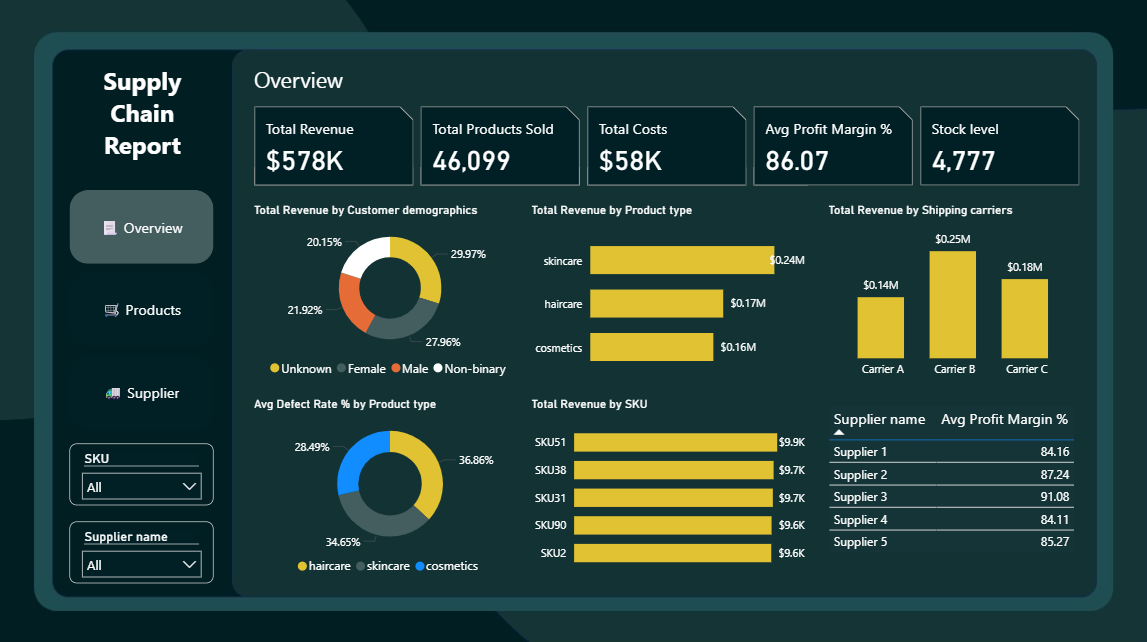

This screenshot's page, from the dashboard's own definition file:
{"tool":"powerbi","page":{"name":"📃  Overview","canvas":[1280,720],"ordinal":0},"visuals":[{"type":"cardVisual","fields":{"Data":["_Measures.Total Revenue","_Measures.Total Products Sold","_Measures.Total Costs","_Measures.Avg Profit Margin %","_Measures.Stock level"]},"box":[278.3,115,928.3,98.3],"z":0},{"type":"donutChart","fields":{"Y":["_Measures.Total Revenue"],"Category":["supply_chain_data.Customer demographics"]},"box":[278.3,228.3,311.7,201.7],"z":1000},{"type":"donutChart","fields":{"Y":["_Measures.Avg Defect Rate %"],"Category":["supply_chain_data.Product type"]},"box":[278.3,443.3,311.7,206.7],"z":2000},{"type":"clusteredBarChart","fields":{"Category":["supply_chain_data.Product type"],"Y":["_Measures.Total Revenue"]},"box":[586.7,228.3,313.3,201.7],"z":3000},{"type":"clusteredBarChart","fields":{"Y":["_Measures.Total Revenue"],"Category":["supply_chain_data.SKU"]},"box":[586.7,443.3,313.3,201.7],"z":4000},{"type":"columnChart","fields":{"Y":["_Measures.Total Revenue"],"Category":["supply_chain_data.Shipping carriers"]},"box":[916.7,228.3,290,201.7],"z":5000},{"type":"tableEx","fields":{"Values":["supply_chain_data.Supplier name","_Measures.Avg Profit Margin %"]},"box":[916.7,448.3,290,196.7],"z":6000},{"type":"textbox","box":[278.3,68.3,128.3,52.5],"z":7000},{"type":"pageNavigator","box":[78.8,213.8,160,266.2],"z":8000},{"type":"slicer","fields":{"Values":["supply_chain_data.SKU"]},"box":[78.3,495,160,68.3],"z":9000},{"type":"slicer","fields":{"Values":["supply_chain_data.Supplier name"]},"box":[78.8,581.2,160,68.8],"z":10000},{"type":"textbox","box":[94.3,68.6,128.6,128.6],"z":11000}]}

Visuals, with their boxes in screenshot pixels (x1, y1, x2, y2), scaled from the page's 1280x720 canvas onto the 1147x642 screenshot:
cardVisual - _Measures.Total Revenue x _Measures.Total Products Sold: l=249, t=103, r=1081, b=190
donutChart - _Measures.Total Revenue x supply_chain_data.Customer demographics: l=249, t=204, r=529, b=383
donutChart - _Measures.Avg Defect Rate % x supply_chain_data.Product type: l=249, t=395, r=529, b=580
clusteredBarChart - supply_chain_data.Product type x _Measures.Total Revenue: l=526, t=204, r=806, b=383
clusteredBarChart - _Measures.Total Revenue x supply_chain_data.SKU: l=526, t=395, r=806, b=575
columnChart - _Measures.Total Revenue x supply_chain_data.Shipping carriers: l=821, t=204, r=1081, b=383
tableEx - supply_chain_data.Supplier name x _Measures.Avg Profit Margin %: l=821, t=400, r=1081, b=575
textbox: l=249, t=61, r=364, b=108
pageNavigator: l=71, t=191, r=214, b=428
slicer - supply_chain_data.SKU: l=70, t=441, r=214, b=502
slicer - supply_chain_data.Supplier name: l=71, t=518, r=214, b=580
textbox: l=85, t=61, r=200, b=176
